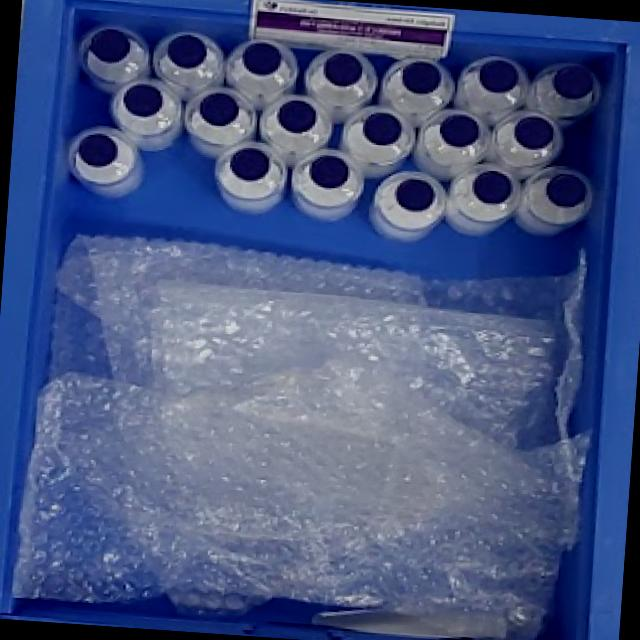vials: (438, 110, 485, 147), (545, 173, 589, 207), (553, 64, 593, 99), (88, 28, 130, 61), (478, 59, 519, 92), (513, 116, 554, 149), (241, 42, 282, 75), (167, 34, 206, 68), (309, 155, 349, 188), (229, 147, 269, 180), (401, 61, 441, 94), (77, 133, 117, 166), (472, 170, 511, 203), (395, 178, 434, 211), (362, 112, 401, 145), (277, 100, 316, 133), (123, 83, 162, 116), (198, 93, 238, 125), (323, 53, 361, 86)
